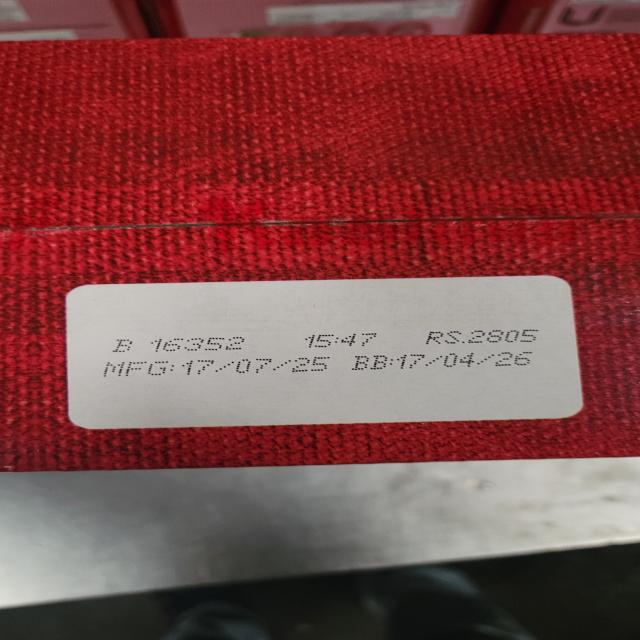BB: (350, 352, 537, 372)
Batch: (104, 335, 253, 355)
MFG: (100, 355, 334, 378)
RS: (418, 327, 544, 348)
TimeStamp: (301, 332, 386, 349)
